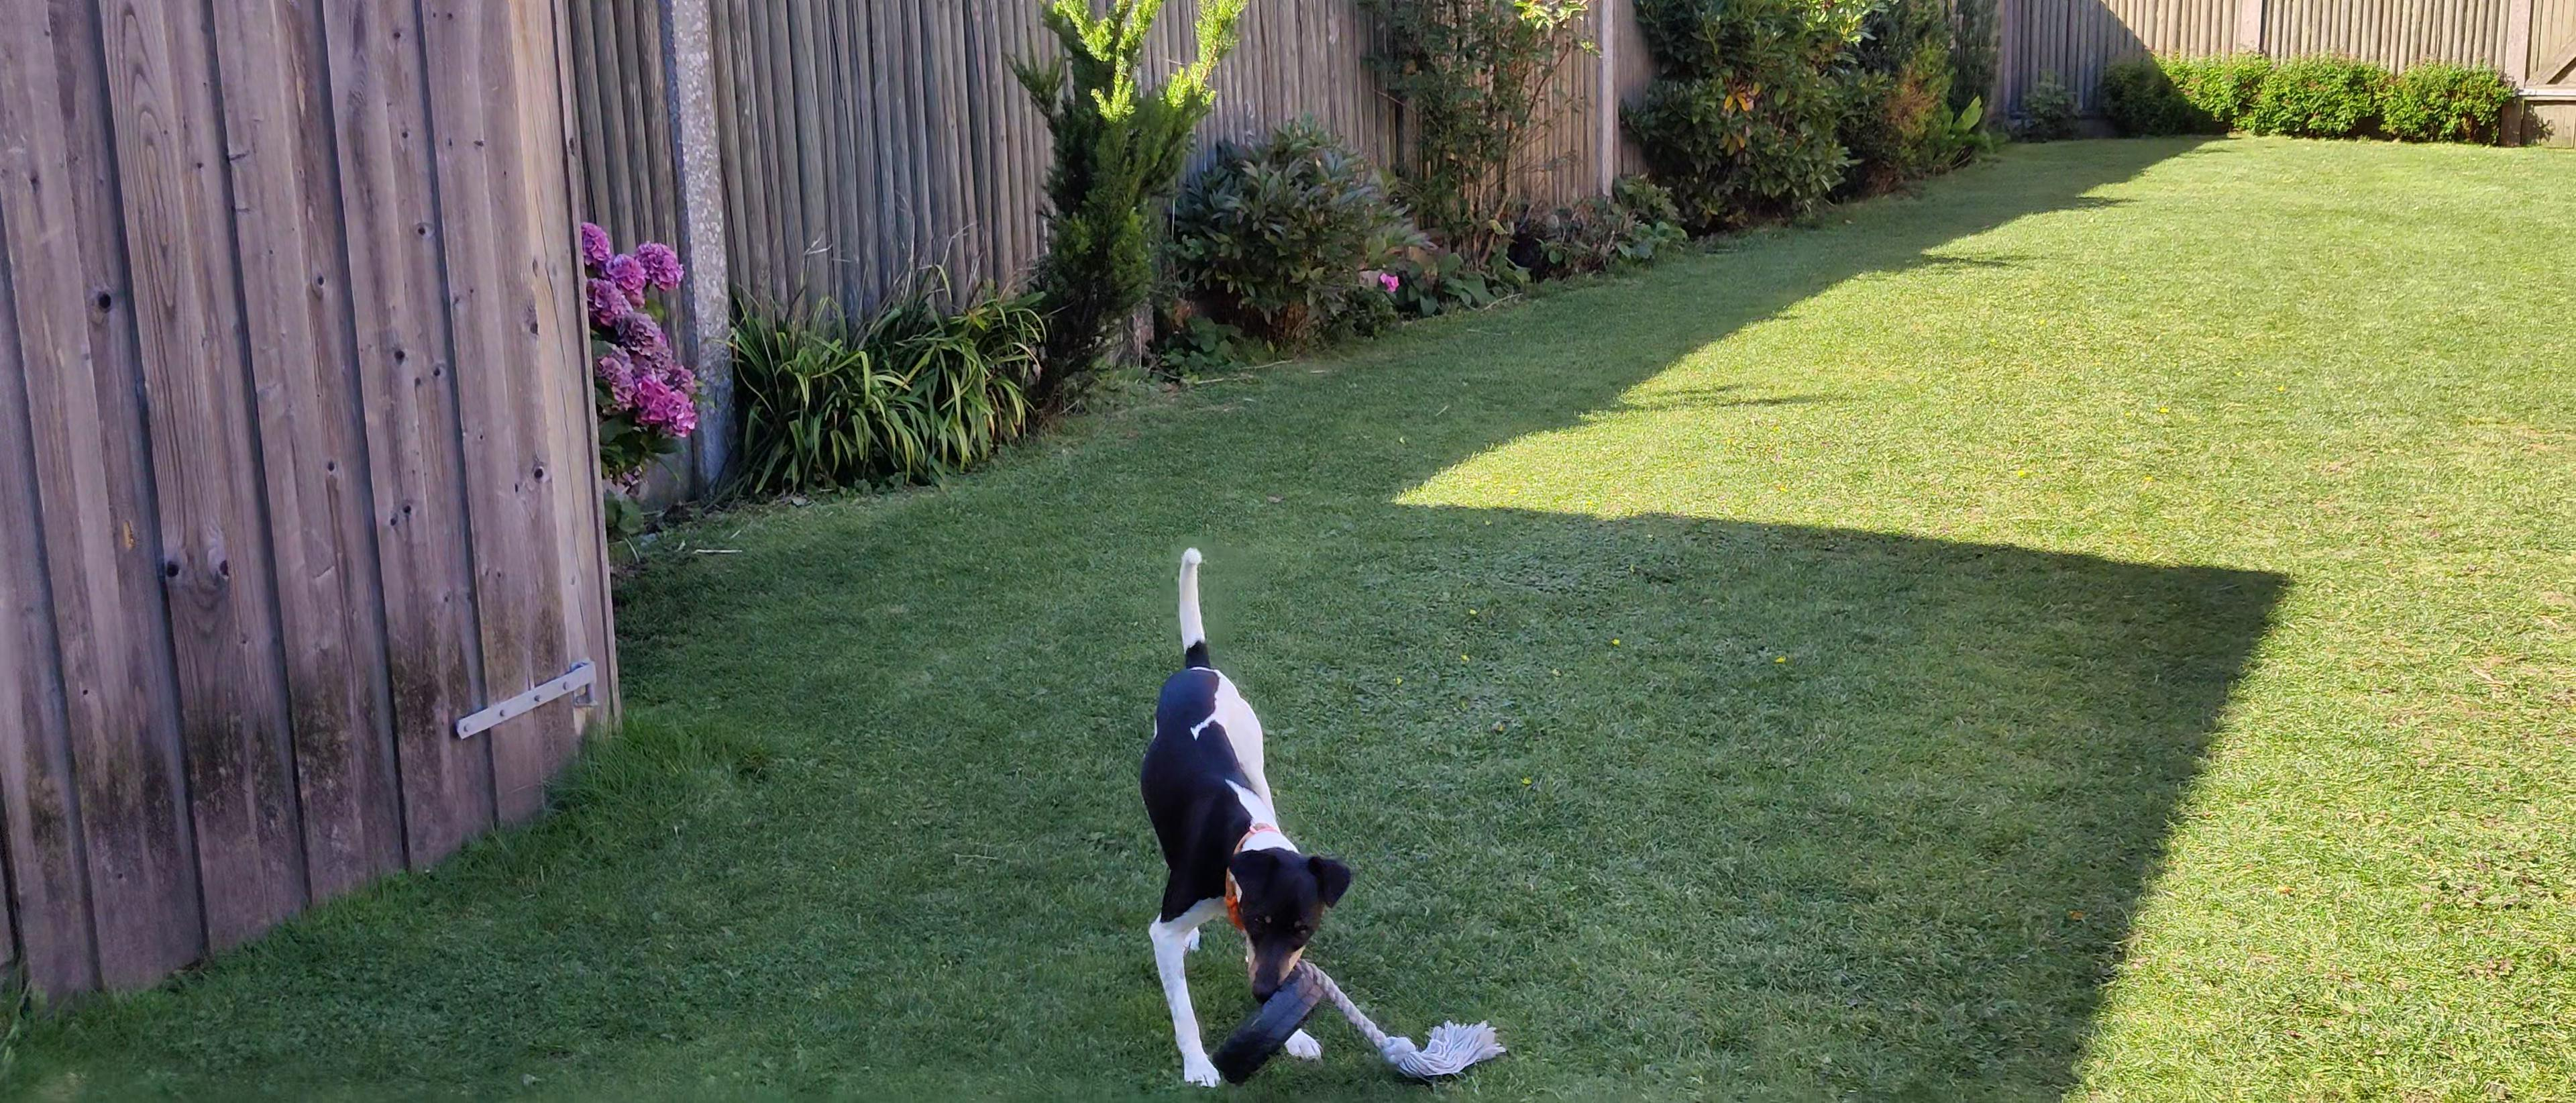Dog: (1129, 533, 1354, 1093)
